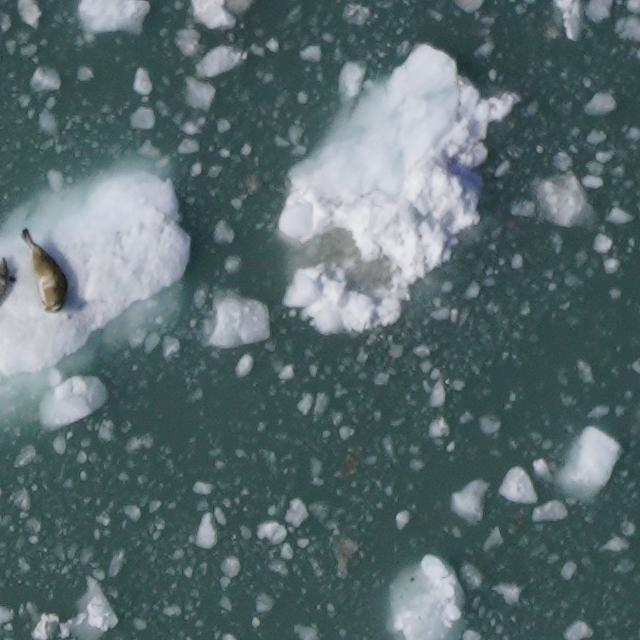seal: (17, 226, 73, 317)
